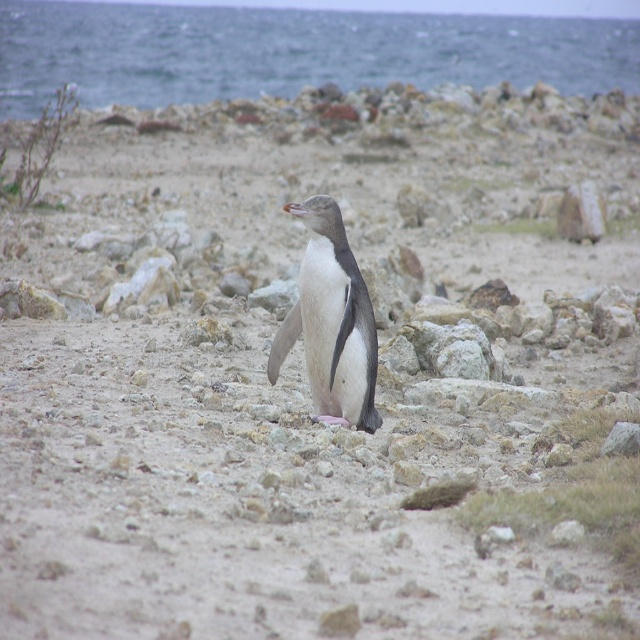Penguin: (257, 191, 385, 444)
